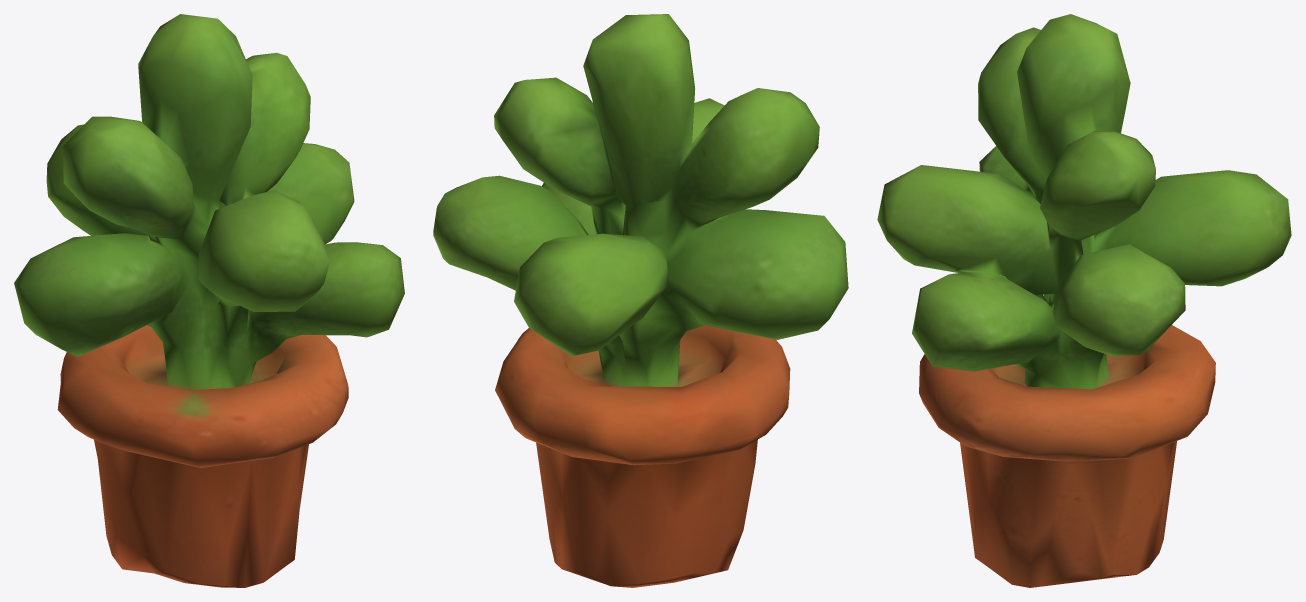
Rendered from plante.glb.
3 renders of one model, left to right at view 1: azimuth 30°, elevation 25°; view 2: azimuth 150°, elevation 25°; view 3: azimuth 270°, elevation 25°, orthographic. The views are drawn at different scales.
Parts seen in each view (by area): view 1: plante; view 2: plante; view 3: plante.
Boxes of the visible parts, box(x1,y1,x2,y2) form: plante: box(14, 14, 404, 587); plante: box(433, 14, 848, 587); plante: box(877, 14, 1291, 587).
Size of the model in its own units: 0.1432 by 0.2054 by 0.1447.
Materials: 1 (1 with a texture image).
